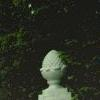Statue: (34, 42, 80, 100)
